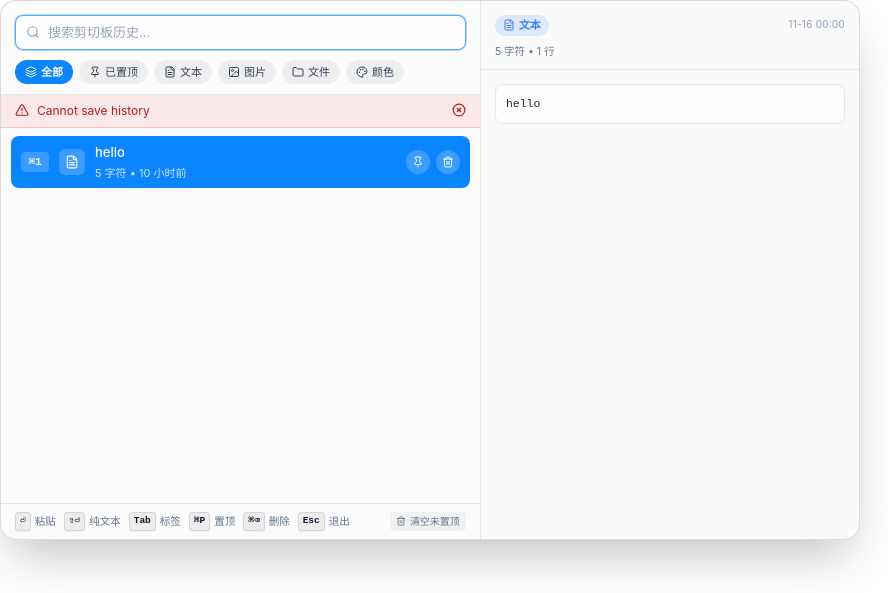
Test: keyboard paste › displays background storage errors
Expected: the text "hello" below "5 字符 • 1 行" is shown, [506,97,540,110]
Expected: the message reads "Cannot save history", [37,103,150,118]
Click the button named "关闭错误提示".
click(459, 110)  # box [452,103,466,117]
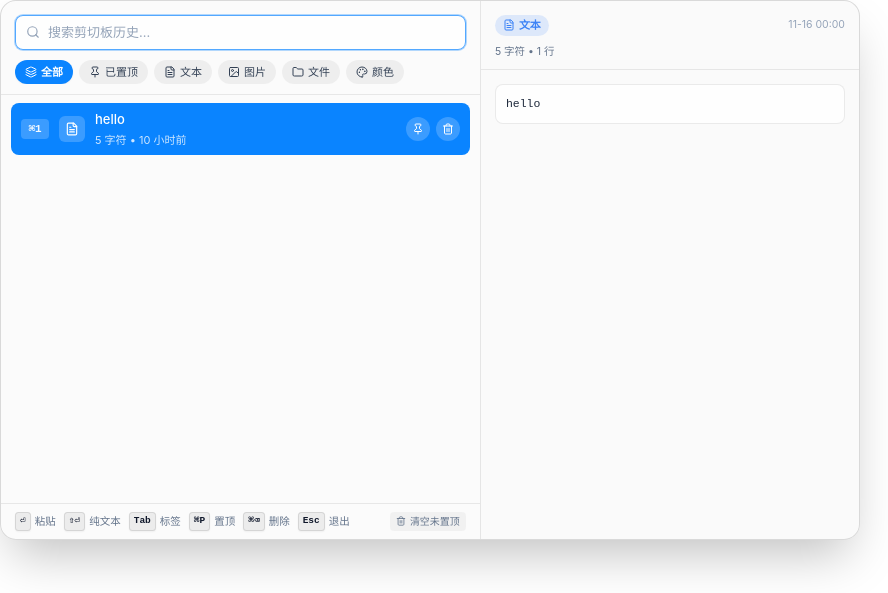
Expected: the message "Cannot save history" is gone
